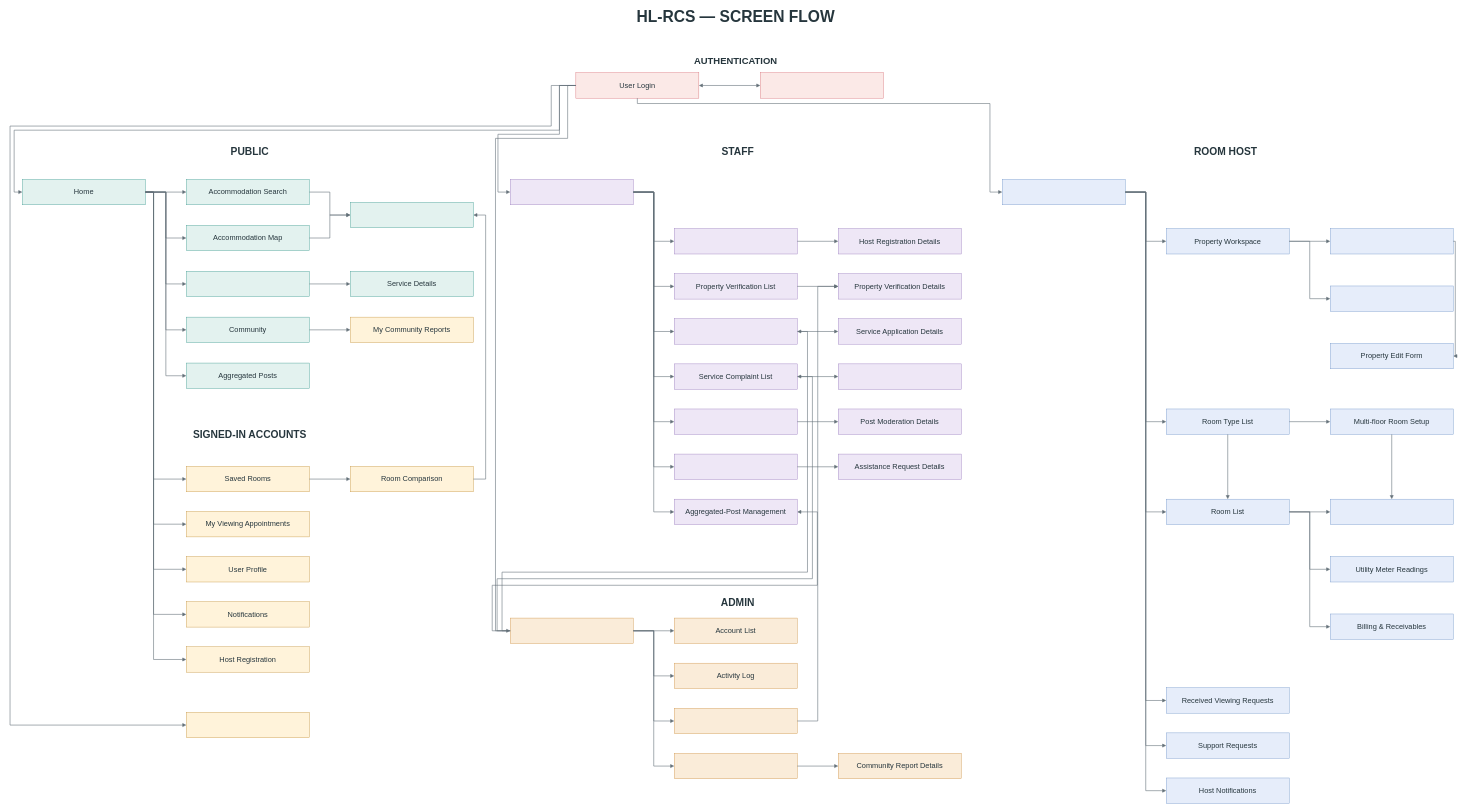
Some shapes in this 1469 by 811 pixel diagram are drawn without their labels. The box of each missing label's shape, as (x1, y1, x2, y2) in pixels:
Accommodation Details: (350, 202, 473, 228)
Admin Dashboard: (510, 618, 633, 643)
Assignment Monitoring: (674, 708, 797, 734)
Assistance Requests: (674, 454, 797, 479)
Community Moderation List: (674, 409, 797, 434)
Community Reports: (674, 753, 797, 779)
Contract Signing: (186, 712, 309, 738)
Host Dashboard: (1002, 179, 1125, 205)
Host Property Details: (1330, 228, 1453, 254)
Host Registration List: (674, 228, 797, 254)
Property Registration Form: (1330, 286, 1453, 311)
Room Publication Selection: (1330, 499, 1453, 525)
Service Application List: (674, 318, 797, 344)
Service Complaint Details: (838, 363, 961, 389)
Services Catalog: (186, 271, 309, 297)
Staff Dashboard: (510, 179, 633, 205)
User Registration: (760, 72, 883, 98)
